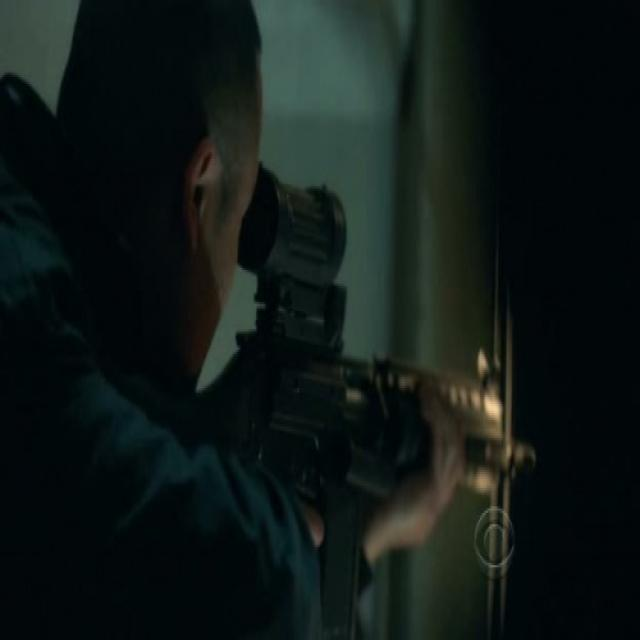rifle: (239, 160, 540, 627)
